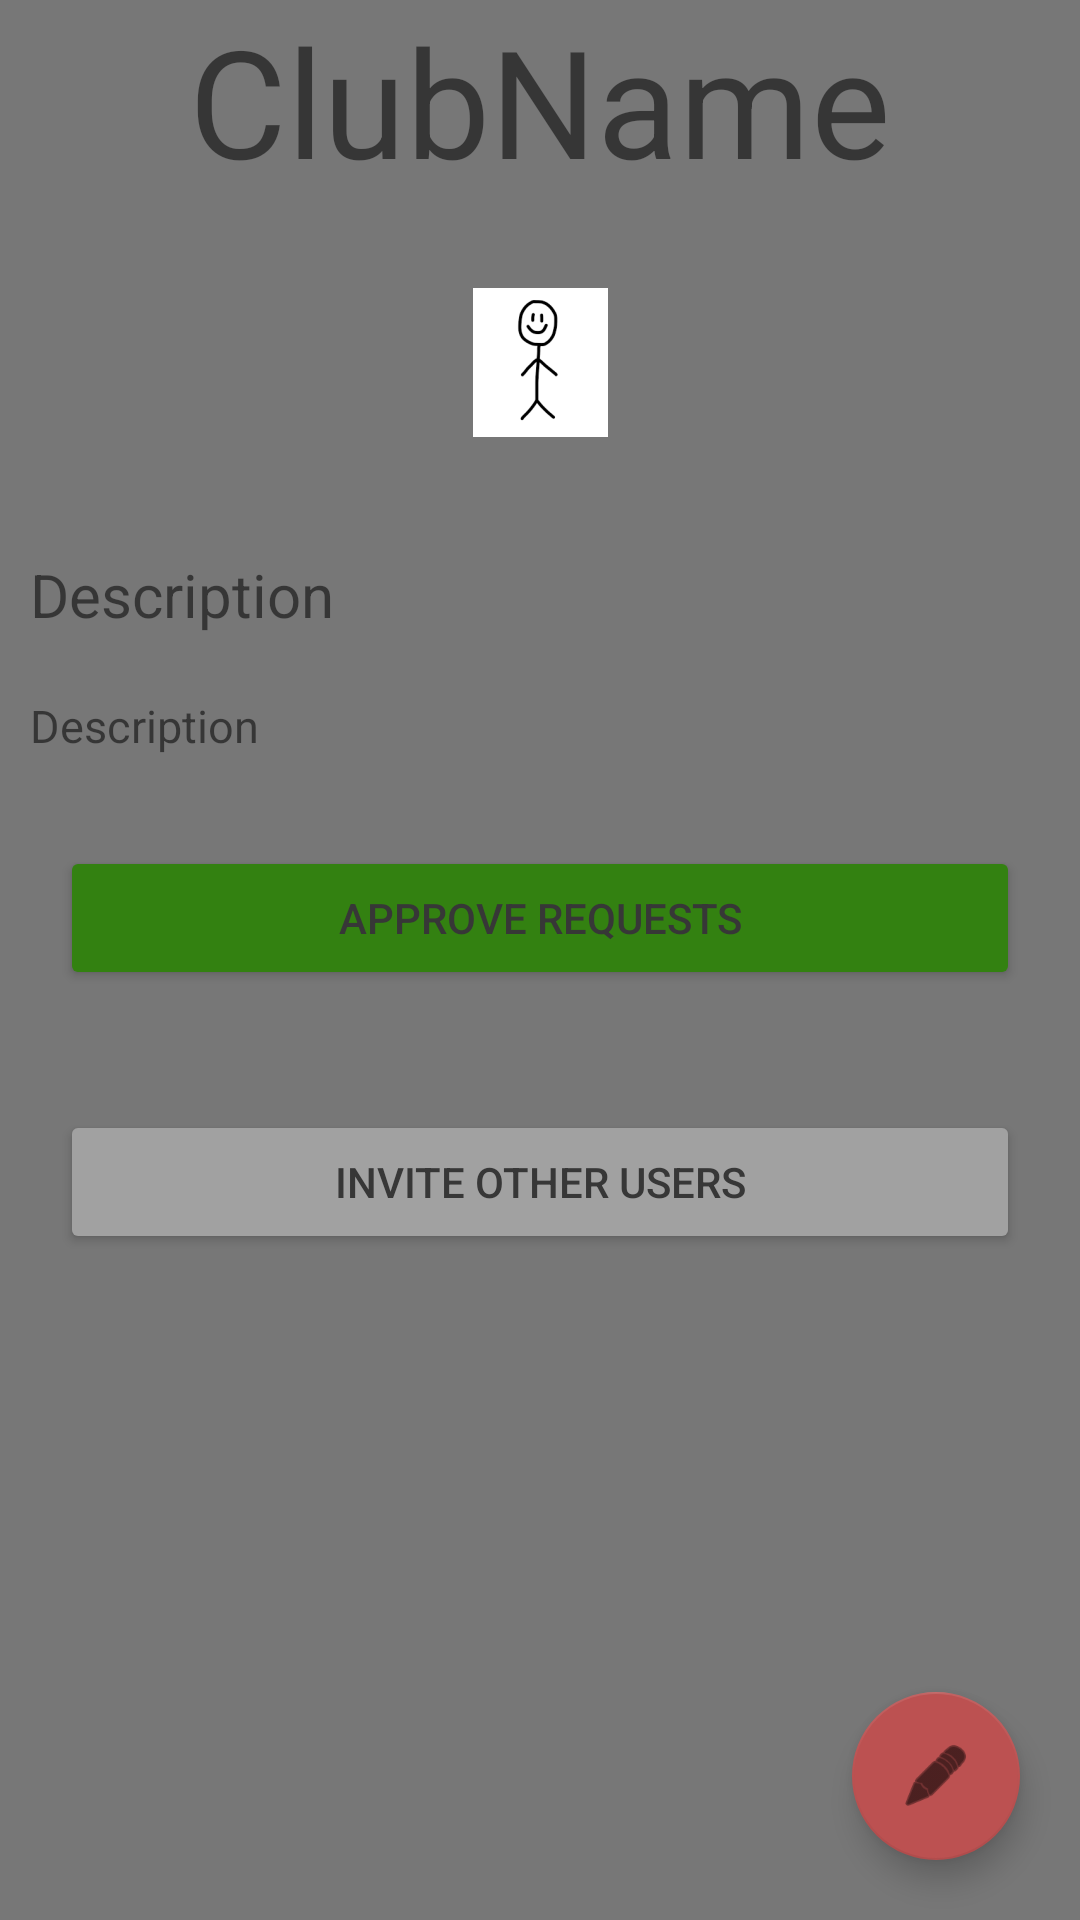

Screen size 1080*1920. Icon name, then its box in pixels as (x1, y1, x2, y2):
Edit: (852, 1692, 1020, 1860)
stickman: (473, 288, 608, 437)
